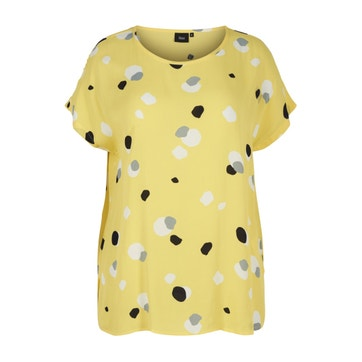C_short blouse: (66, 19, 300, 339)
